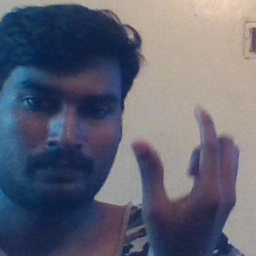U: (129, 106, 249, 248)
